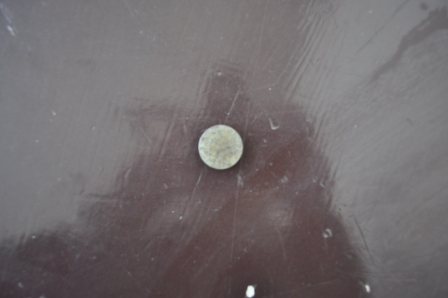METAL PIECE: (196, 124, 244, 171)
